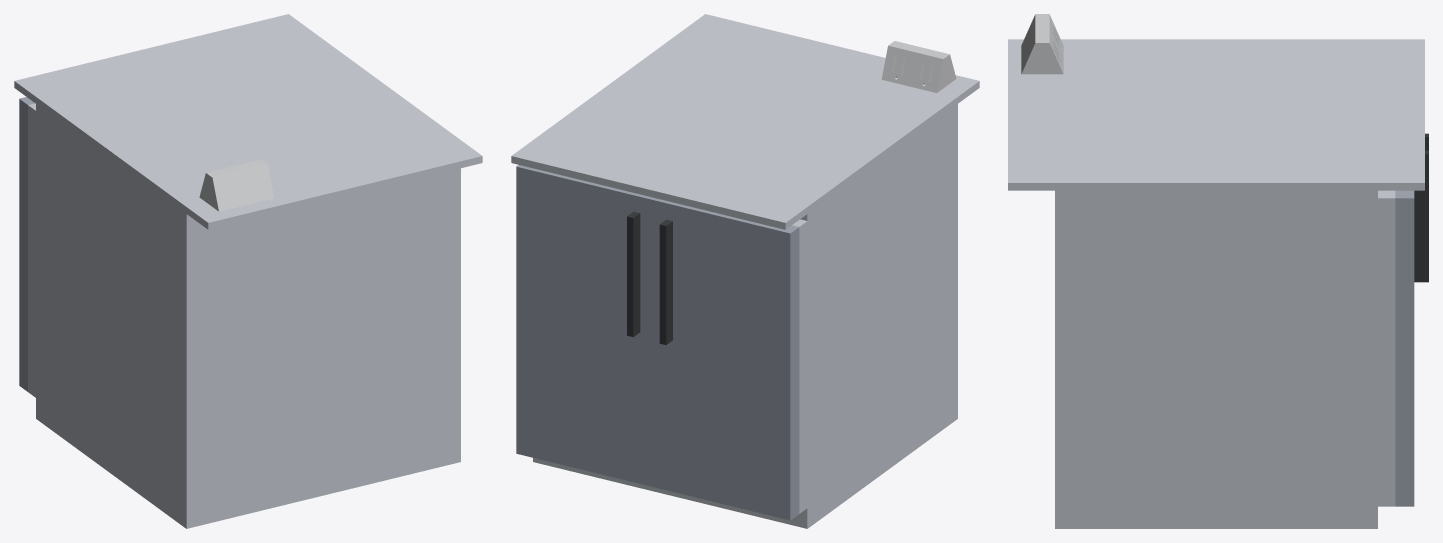
Rendered from counter_counter_top_outlet.glb.
The picture shows the model from 3 angles, left to right: view 1: azimuth 30°, elevation 25°; view 2: azimuth 150°, elevation 25°; view 3: azimuth 270°, elevation 25°; orthographic projection. The views are drawn at different scales.
Parts seen in each view (by area): view 1: counter_counter_top_outlet.001, counter_Cube.001, counter_counter_cabinet_door012; view 2: counter_counter_top_outlet.001, counter_counter_cabinet_door012, counter_counter_cabinet_door013, counter_Cube.001; view 3: counter_counter_top_outlet.001, counter_counter_cabinet_door013, counter_Cube.001.
Part boxes in pixels (x1,y1,x2,y2): counter_counter_top_outlet.001: (14,14,482,528); counter_Cube.001: (199,159,274,211); counter_counter_cabinet_door012: (19,97,34,391); counter_counter_top_outlet.001: (511,14,979,528); counter_counter_cabinet_door012: (653,198,799,520); counter_counter_cabinet_door013: (516,165,655,486); counter_Cube.001: (881,41,956,92); counter_counter_top_outlet.001: (1008,39,1424,528); counter_counter_cabinet_door013: (1395,150,1428,506); counter_Cube.001: (1021,14,1063,74).
Size of the model in its own units: 62.02 by 76.44 by 76.73.
Materials: 1 (1 with a texture image).
